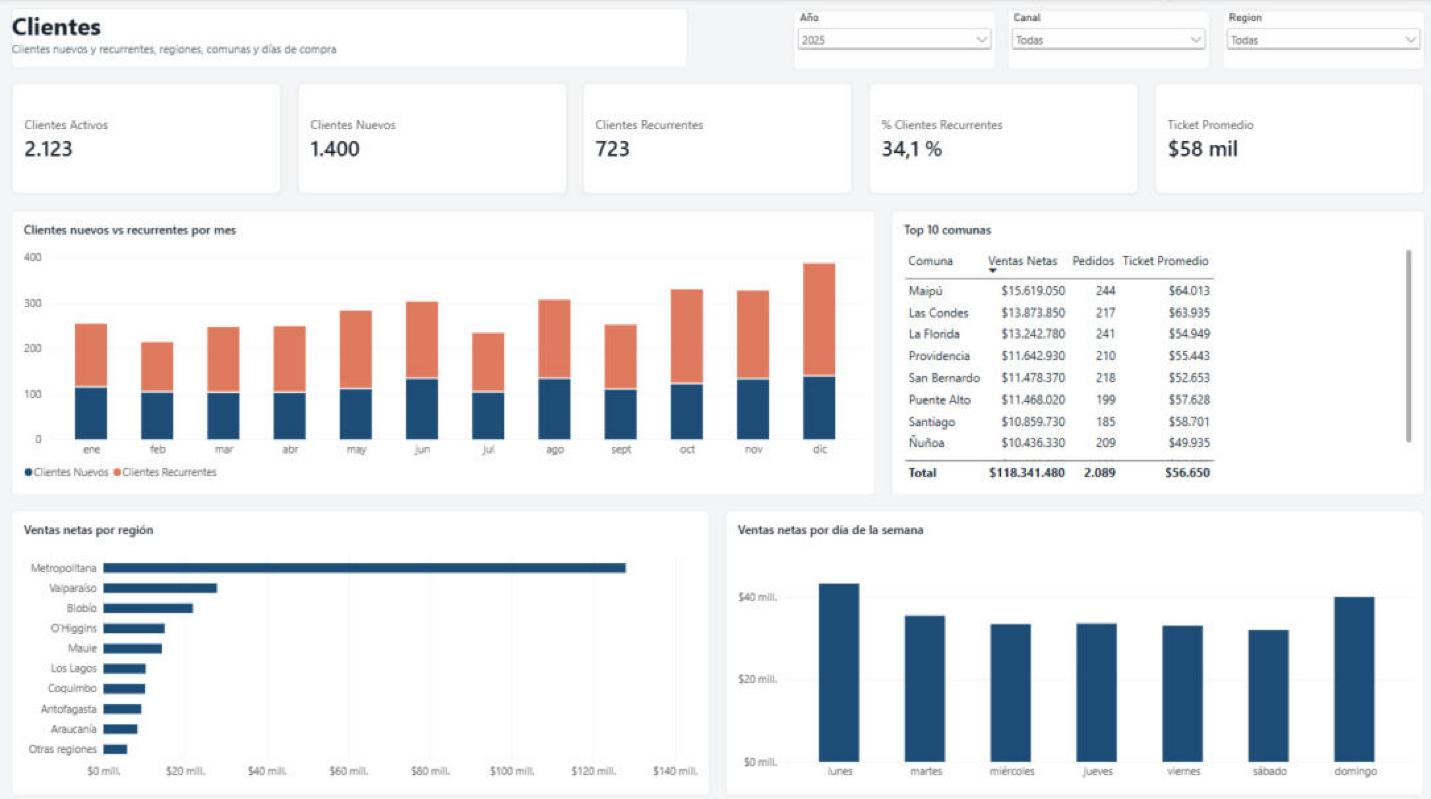

The dashboard page shown, as its layout file describes it:
{"tool":"powerbi","page":{"name":"Clientes","canvas":[1920,1080],"ordinal":2},"visuals":[{"type":"textbox","box":[20,12,900,80],"z":0},{"type":"slicer","fields":{"Values":["Calendario.Año"]},"box":[1060,15,270,80],"z":1000},{"type":"slicer","fields":{"Values":["Ventas.Canal"]},"box":[1345,15,270,80],"z":1001},{"type":"slicer","fields":{"Values":["Clientes.Region"]},"box":[1630,15,270,80],"z":1002},{"type":"cardVisual","fields":{"Data":["Medidas.Clientes Activos (texto)"]},"box":[20,110,360,150],"z":1003},{"type":"cardVisual","fields":{"Data":["Medidas.Clientes Nuevos (texto)"]},"box":[400,110,360,150],"z":1004},{"type":"cardVisual","fields":{"Data":["Medidas.Clientes Recurrentes (texto)"]},"box":[780,110,360,150],"z":1005},{"type":"cardVisual","fields":{"Data":["Medidas.% Clientes Recurrentes"]},"box":[1160,110,360,150],"z":1006},{"type":"cardVisual","fields":{"Data":["Medidas.Ticket Promedio"]},"box":[1540,110,360,150],"z":1007},{"type":"columnChart","title":"Clientes nuevos vs recurrentes por mes","fields":{"Category":["Calendario.Mes"],"Y":["Medidas.Clientes Nuevos","Medidas.Clientes Recurrentes"]},"box":[20,280,1150,380],"z":1010},{"type":"tableEx","title":"Top 10 comunas","fields":{"Values":["Clientes.Comuna","Medidas.Ventas Netas","Medidas.Pedidos","Medidas.Ticket Promedio"]},"box":[1190,280,710,380],"z":1011},{"type":"clusteredBarChart","title":"Ventas netas por región","fields":{"Category":["Clientes.Region"],"Y":["Medidas.Ventas Netas"]},"box":[20,680,930,380],"z":1012},{"type":"clusteredColumnChart","title":"Ventas netas por día de la semana","fields":{"Category":["Calendario.Día Semana"],"Y":["Medidas.Ventas Netas"]},"box":[970,680,930,380],"z":1013}]}

Visuals, with their boxes in screenshot pixels (x1, y1, x2, y2), scaled from the page's 1920x1080 canvas onto the 1431x799 screenshot:
textbox: detection(15, 9, 686, 68)
slicer - Calendario.Año: detection(790, 11, 991, 70)
slicer - Ventas.Canal: detection(1002, 11, 1204, 70)
slicer - Clientes.Region: detection(1215, 11, 1416, 70)
cardVisual - Medidas.Clientes Activos (texto): detection(15, 81, 283, 192)
cardVisual - Medidas.Clientes Nuevos (texto): detection(298, 81, 566, 192)
cardVisual - Medidas.Clientes Recurrentes (texto): detection(581, 81, 850, 192)
cardVisual - Medidas.% Clientes Recurrentes: detection(865, 81, 1133, 192)
cardVisual - Medidas.Ticket Promedio: detection(1148, 81, 1416, 192)
"Clientes nuevos vs recurrentes por mes" columnChart: detection(15, 207, 872, 488)
"Top 10 comunas" tableEx: detection(887, 207, 1416, 488)
"Ventas netas por región" clusteredBarChart: detection(15, 503, 708, 784)
"Ventas netas por día de la semana" clusteredColumnChart: detection(723, 503, 1416, 784)
